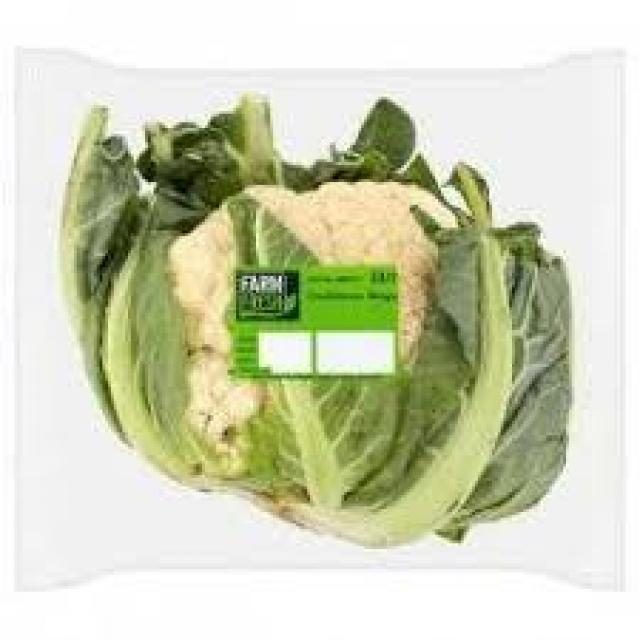organic waste: (62, 86, 572, 544)
